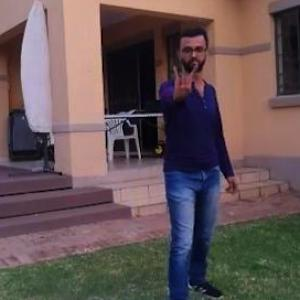takeoff-hand: (163, 53, 204, 101)
